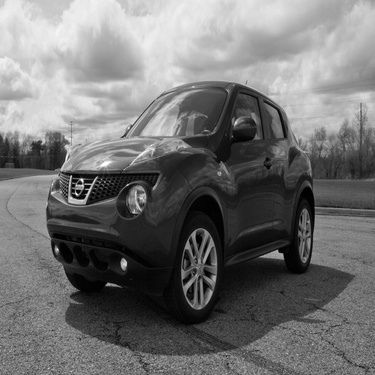car: (40, 74, 318, 326)
